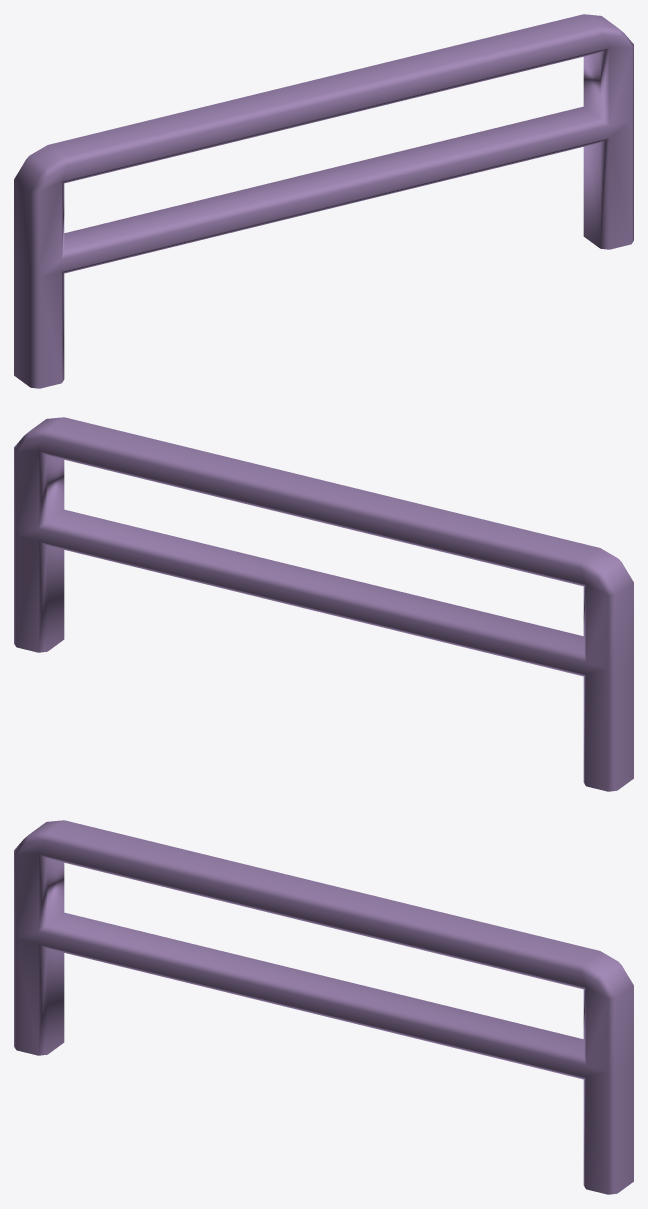
File: Gate.fbx
3 views of the same model, one above another, from view 1: azimuth 30°, elevation 25°; view 2: azimuth 150°, elevation 25°; view 3: azimuth 330°, elevation 25° (orthographic).
Visible parts, largest first — view 1: pasted__pCube15; view 2: pasted__pCube15; view 3: pasted__pCube15.
Boxes of the visible parts, bbox=[...] form: pasted__pCube15: bbox=[14, 14, 633, 388]; pasted__pCube15: bbox=[14, 417, 633, 791]; pasted__pCube15: bbox=[14, 820, 633, 1194].
Size of the model in its own units: 12.01 by 4.23 by 0.8025.
